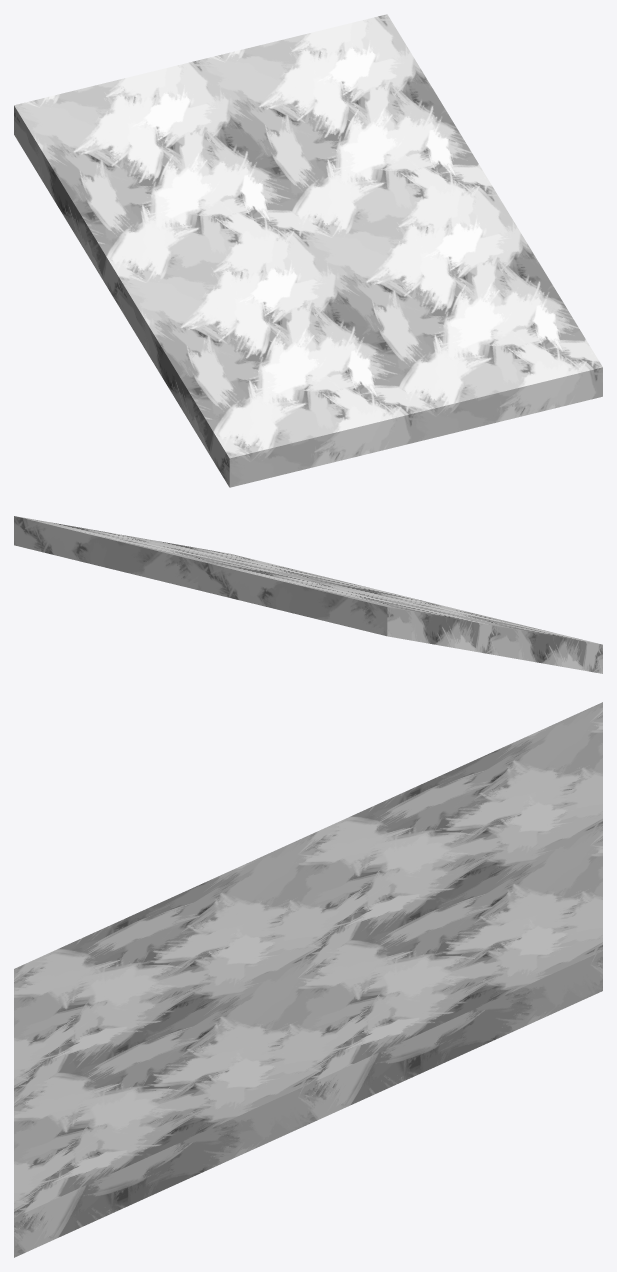
File: Village_Clay_2m_Roof_A.fbx
3 views of the same model, one above another, from view 1: azimuth 30°, elevation 25°; view 2: azimuth 150°, elevation 25°; view 3: azimuth 270°, elevation 25° (orthographic). The views are drawn at different scales.
Visible parts, largest first — view 1: Village_Wall_2m_Roof_A.284; view 2: Village_Wall_2m_Roof_A.284; view 3: Village_Wall_2m_Roof_A.284.
Boxes of the visible parts, box(x1,y1,x2,y2) form: Village_Wall_2m_Roof_A.284: box(14, 14, 602, 487); Village_Wall_2m_Roof_A.284: box(14, 516, 602, 673); Village_Wall_2m_Roof_A.284: box(14, 702, 602, 1257).
Bounding box in the file's own units: 200 × 115 × 200.
